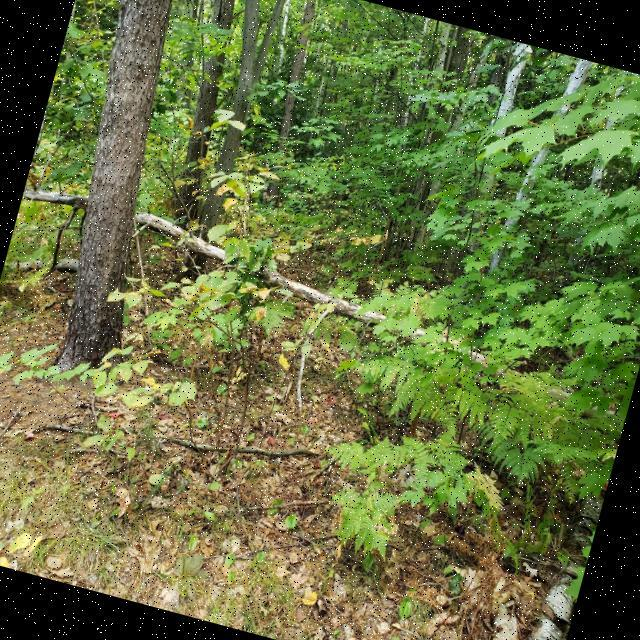fallen_object: (2, 161, 638, 467)
